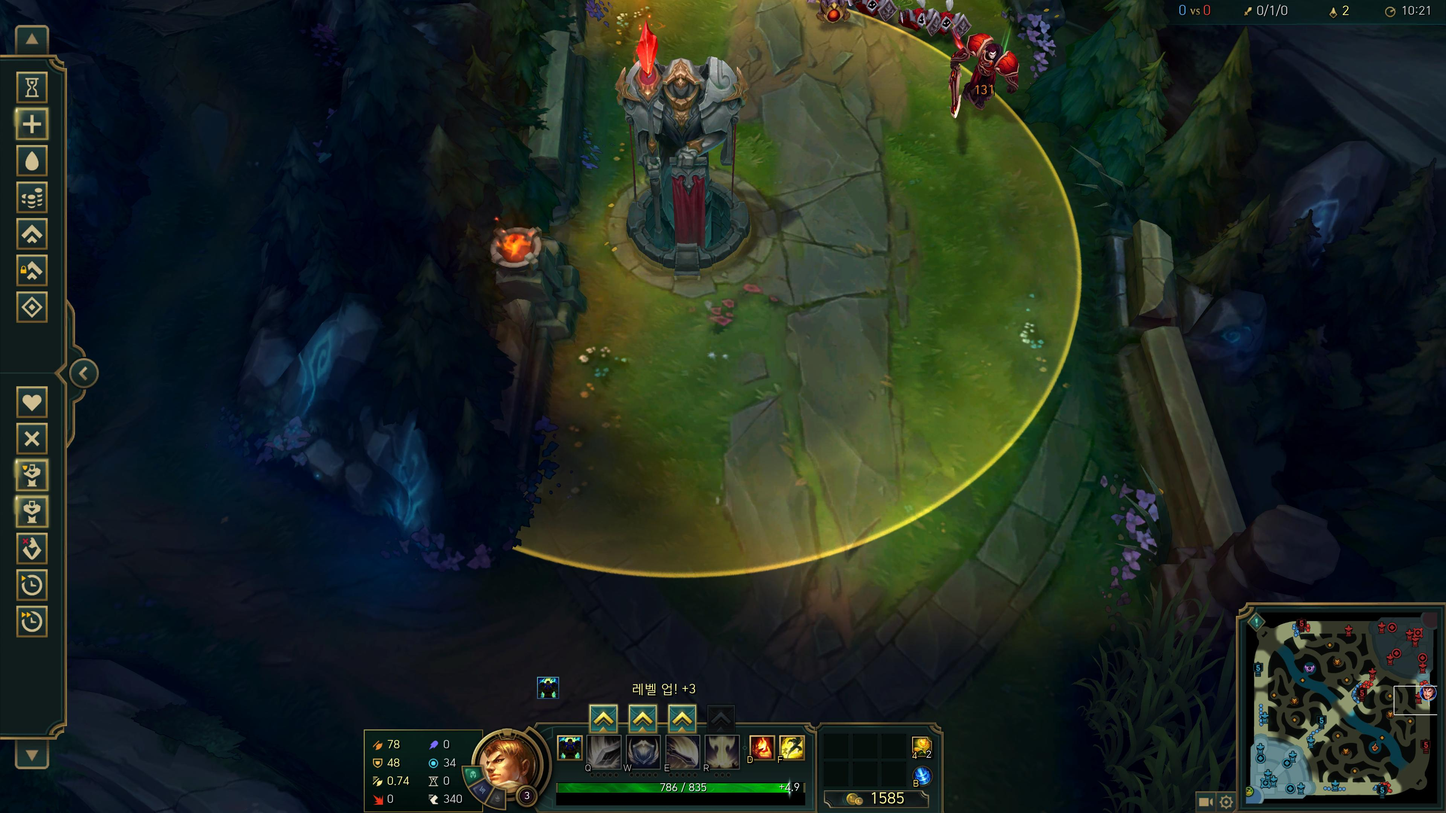enemy-melee-minion: (900, 0, 943, 34), (853, 0, 899, 20)
enemy-tower: (610, 17, 777, 295)
